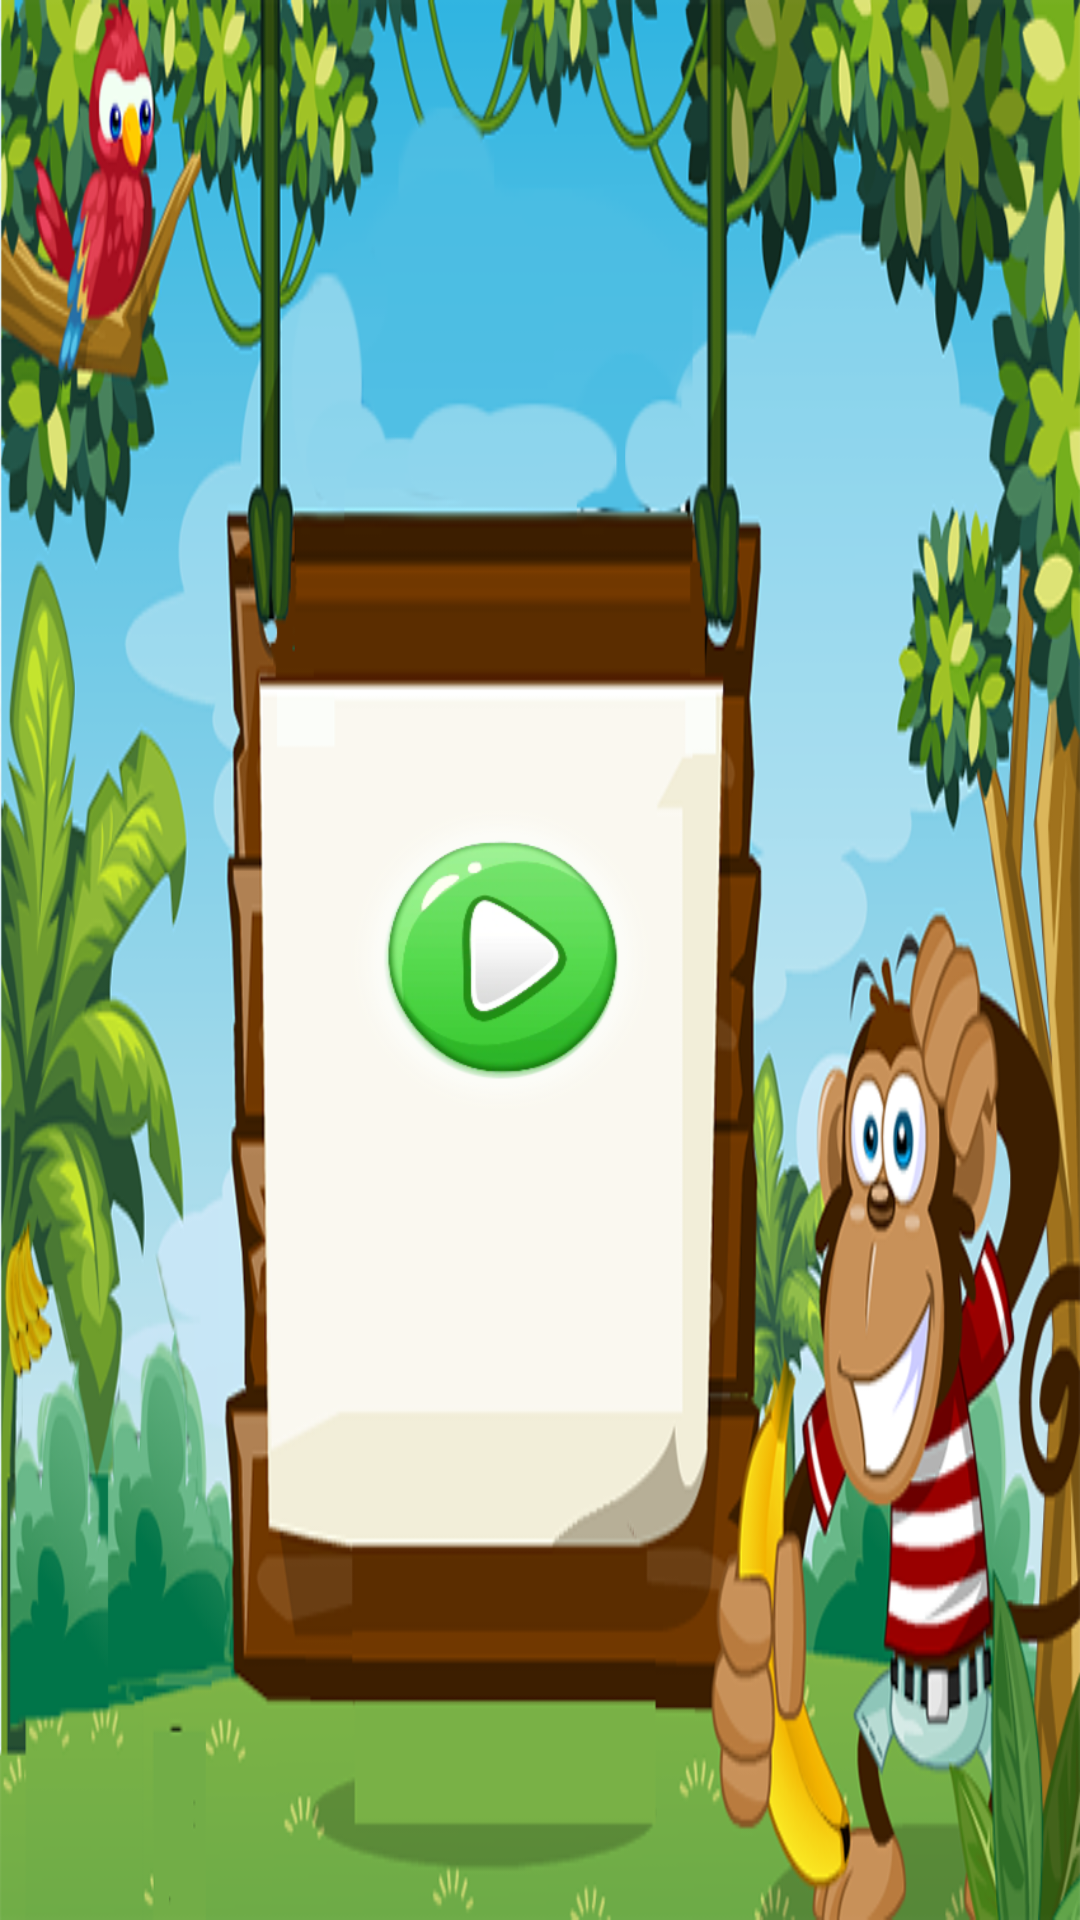

Where icons sit on this 1080*1920 app screen, as (x1, y1, x2, y2):
play: (386, 842, 618, 1078)
